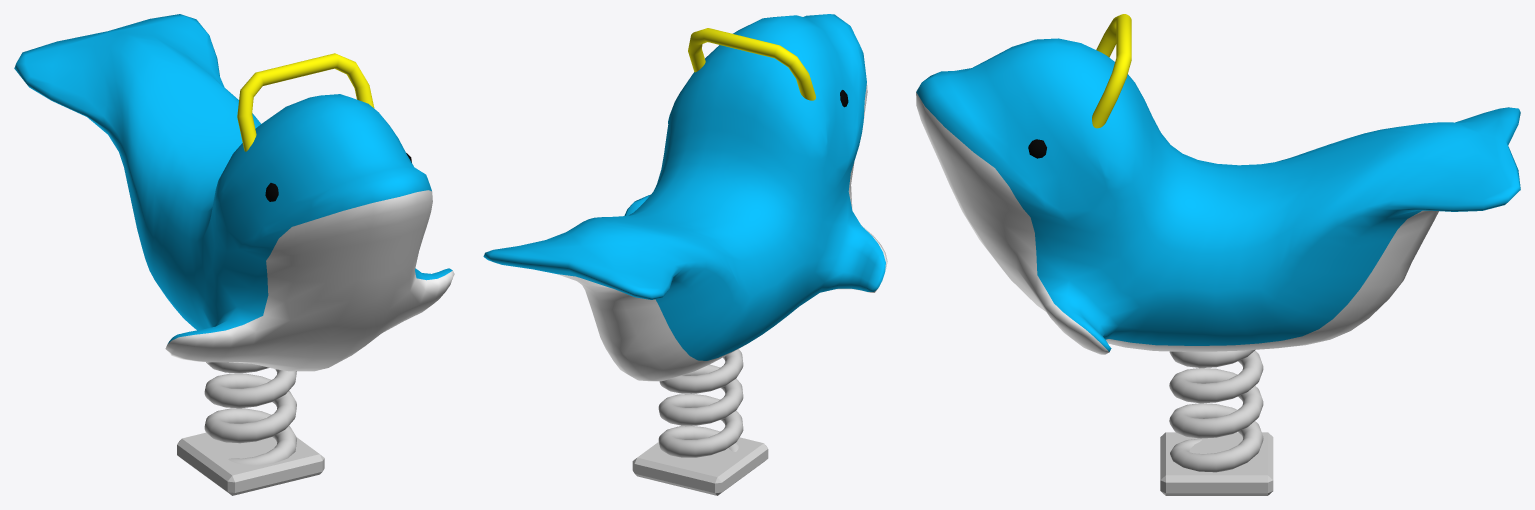
Rendered from イルカ遊具.fbx.
The picture shows the model from 3 angles, left to right: view 1: azimuth 30°, elevation 25°; view 2: azimuth 150°, elevation 25°; view 3: azimuth 270°, elevation 25°; orthographic projection. The views are drawn at different scales.
Visible parts, largest first — view 1: Cube; view 2: Cube; view 3: Cube.
Part boxes in pixels (bbox=[...]): Cube: bbox=[14, 14, 454, 495]; Cube: bbox=[483, 14, 887, 495]; Cube: bbox=[916, 14, 1520, 495].
Size of the model in its own units: 229 by 339 by 421.
